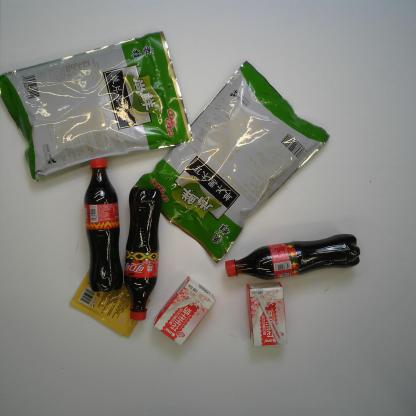Dried Food: (130, 59, 330, 265), (0, 29, 196, 184)
Drink: (224, 233, 361, 282), (82, 157, 124, 294), (123, 186, 163, 322)
Milk: (153, 275, 216, 348), (245, 281, 288, 348)
Seasoner: (69, 270, 150, 339)
